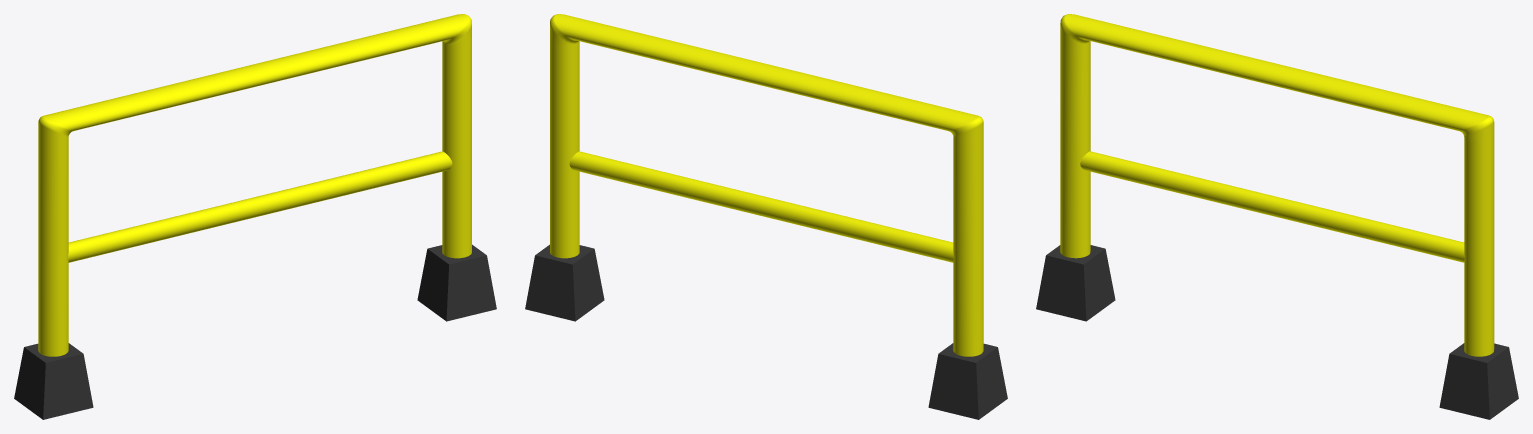
Rendered from Railing.fbx.
3 views of the same model, side by side, from view 1: azimuth 30°, elevation 25°; view 2: azimuth 150°, elevation 25°; view 3: azimuth 330°, elevation 25° (orthographic).
Visible parts, largest first — view 1: pCylinder1, pCube3, pCylinder2; view 2: pCylinder1, pCube3, pCylinder2; view 3: pCylinder1, pCube3, pCylinder2.
Part boxes in pixels (x1,y1,x2,y2): pCylinder1: (38,14,471,356); pCube3: (14,244,496,419); pCylinder2: (68,151,452,262); pCylinder1: (550,14,983,356); pCube3: (525,244,1007,419); pCylinder2: (569,151,953,262); pCylinder1: (1060,14,1494,356); pCube3: (1036,245,1518,419); pCylinder2: (1080,151,1464,262).
Size of the model in its own units: 9 by 5.45 by 1.
